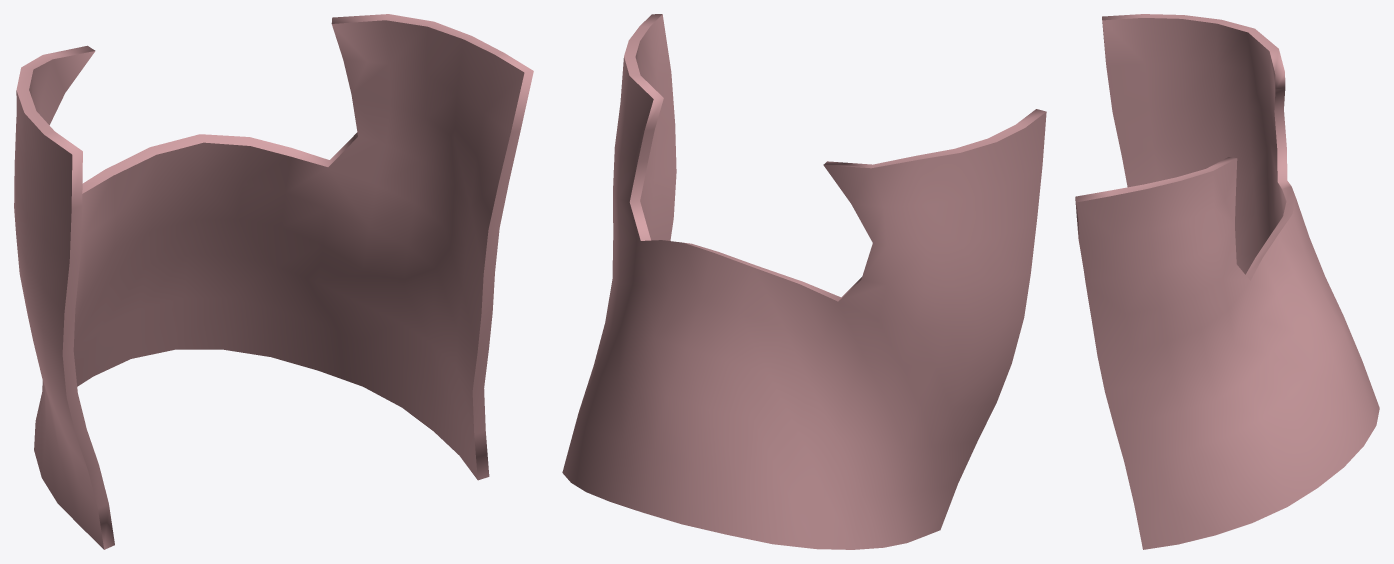
3 views of the same model, side by side, from view 1: azimuth 30°, elevation 25°; view 2: azimuth 150°, elevation 25°; view 3: azimuth 270°, elevation 25° (orthographic). The views are drawn at different scales.
Parts seen in each view (by area): view 1: ZA_a9c47ec924c2f831; view 2: ZA_a9c47ec924c2f831; view 3: ZA_a9c47ec924c2f831.
Part boxes in pixels (x1,y1,x2,y2): ZA_a9c47ec924c2f831: (14, 14, 533, 549); ZA_a9c47ec924c2f831: (562, 14, 1046, 549); ZA_a9c47ec924c2f831: (1075, 14, 1379, 549).
Size of the model in its own units: 0.1232 by 0.1199 by 0.0903.
